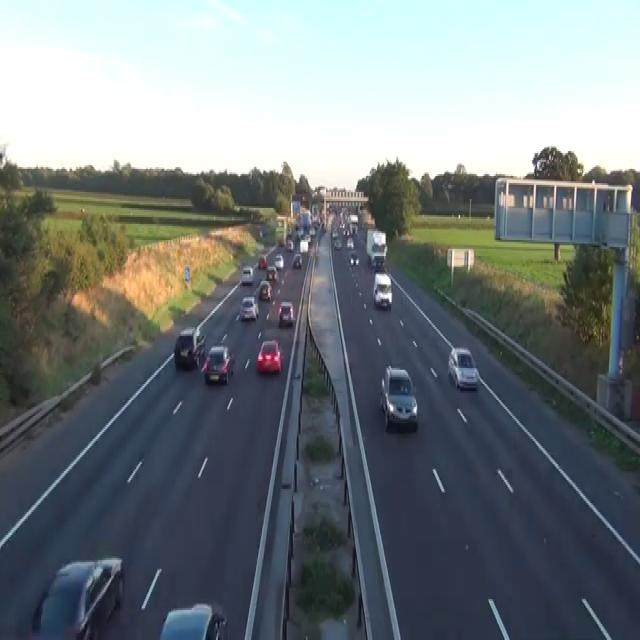Car: (29, 555, 124, 638), (379, 364, 418, 432), (159, 603, 226, 638), (174, 325, 206, 370), (447, 347, 478, 389), (202, 345, 234, 384), (256, 338, 283, 373), (373, 272, 392, 309), (239, 295, 259, 320), (278, 300, 294, 326), (258, 279, 272, 301), (371, 254, 385, 272), (241, 265, 253, 284), (266, 265, 277, 281), (292, 252, 302, 268), (274, 252, 283, 268), (349, 251, 359, 265), (258, 254, 266, 268), (299, 240, 308, 252), (0, 151, 6, 169), (259, 226, 268, 236), (285, 240, 293, 251), (346, 238, 354, 249), (334, 238, 342, 249), (309, 226, 316, 236), (304, 233, 311, 243), (331, 230, 338, 238), (259, 230, 262, 237)
Truck: (366, 228, 387, 268)
